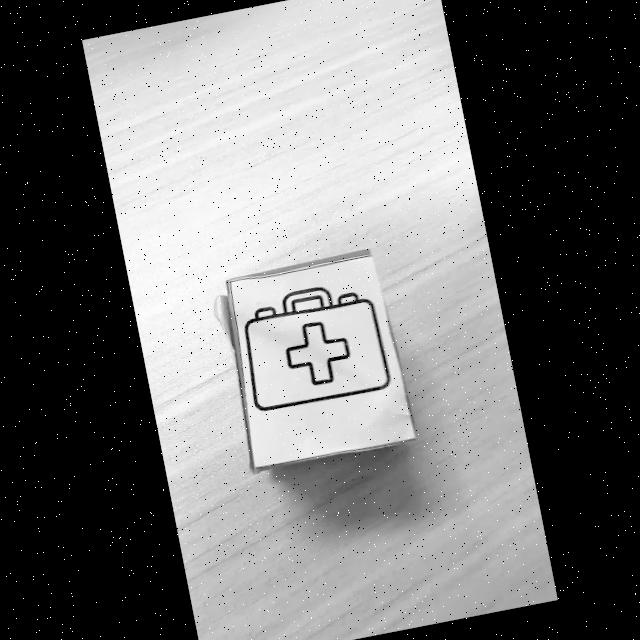Medkit: (243, 287, 391, 422)
